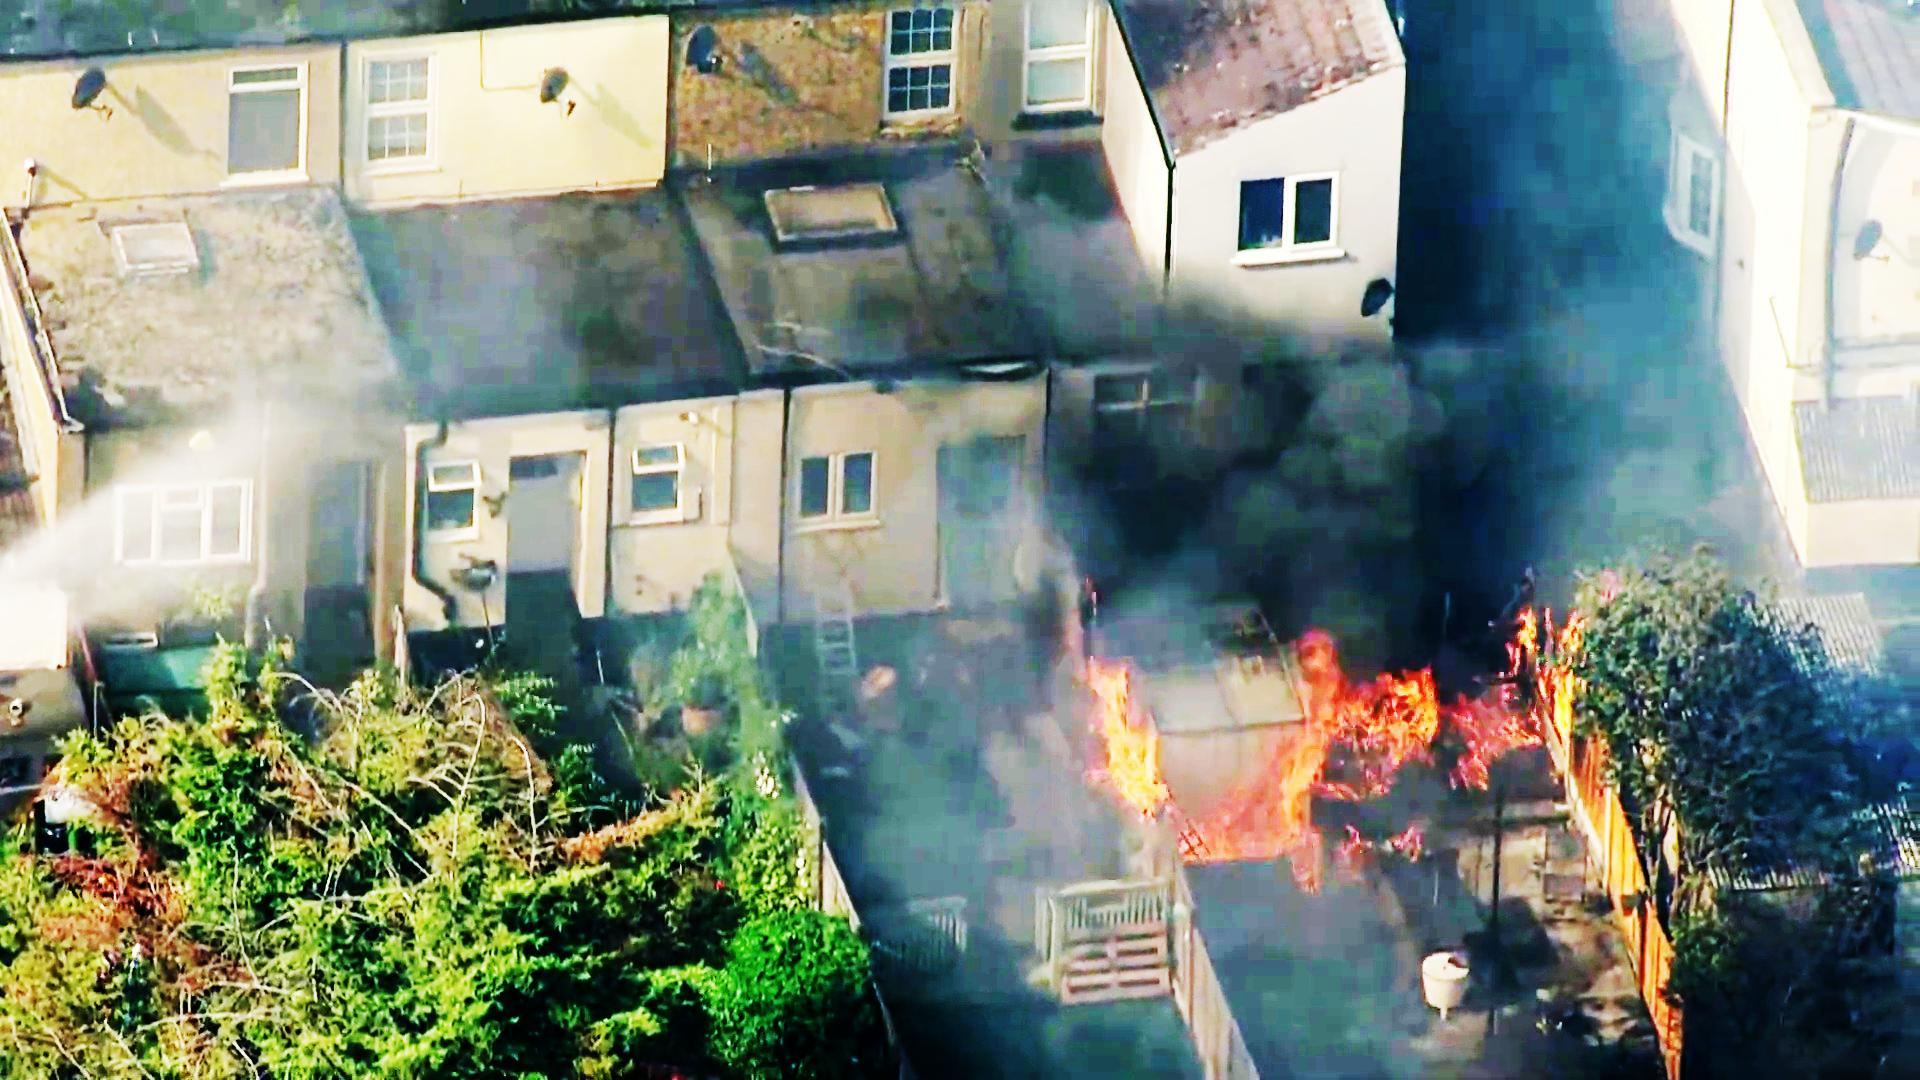fire: (1036, 563, 1621, 856)
